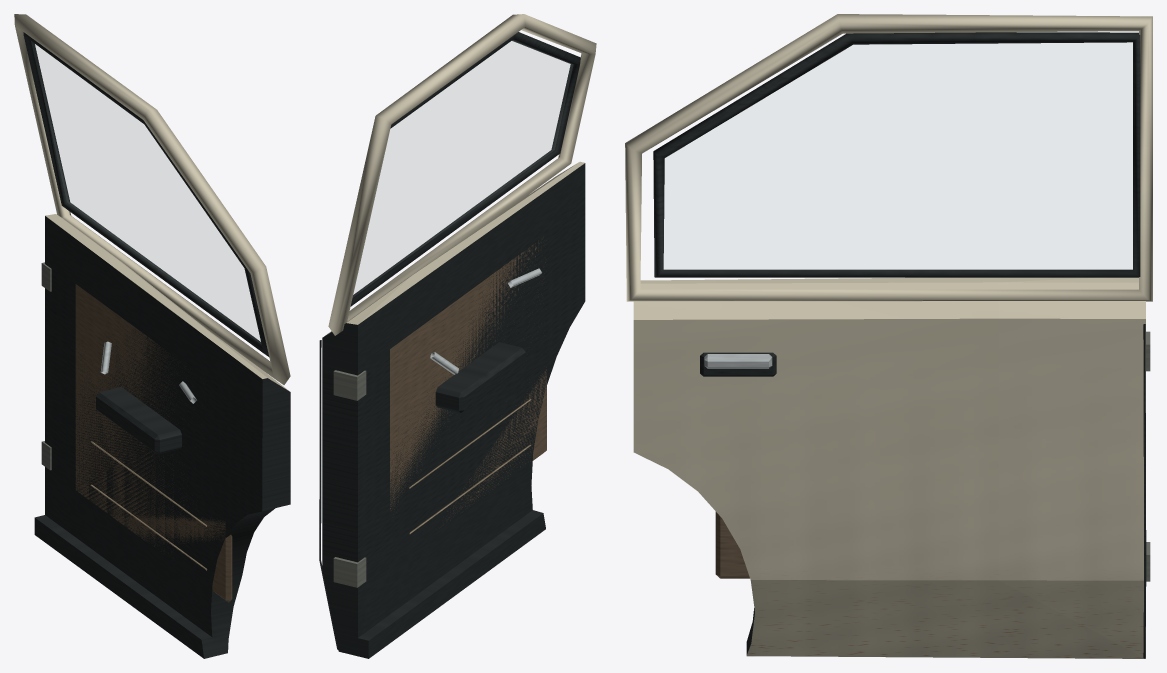
Rendered from zastava_101_door_rr.glb.
3 views of the same model, side by side, from view 1: azimuth 30°, elevation 25°; view 2: azimuth 150°, elevation 25°; view 3: azimuth 270°, elevation 25° (orthographic). The views are drawn at different scales.
Visible parts, largest first — view 1: zastava_101_door_rr; view 2: zastava_101_door_rr; view 3: zastava_101_door_rr.
Boxes of the visible parts, box(x1,y1,x2,y2) form: zastava_101_door_rr: box(14, 14, 290, 658); zastava_101_door_rr: box(319, 14, 596, 658); zastava_101_door_rr: box(625, 14, 1152, 658).
Bounding box in the file's own units: 0.1892 × 1.2 × 0.9321.
Materials: 4 (3 with a texture image).
